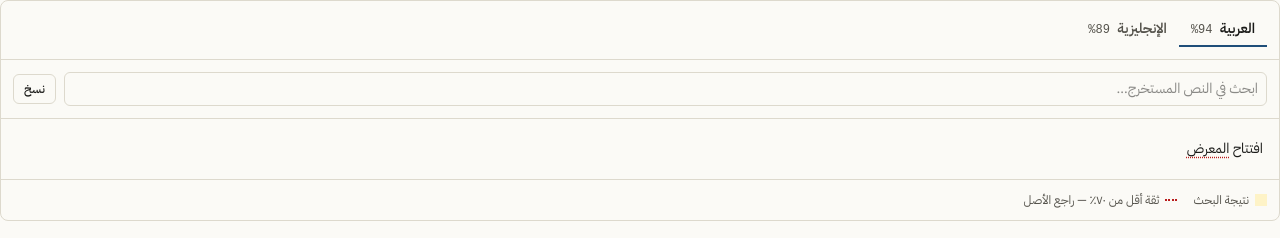
OcrTextPanel › switches language and paginates within a language's pages
Click the button with test id "ocr-lang-tab" showing "الإنجليزية 89%" at x=1128, y=30, box [1076,13,1179,47]
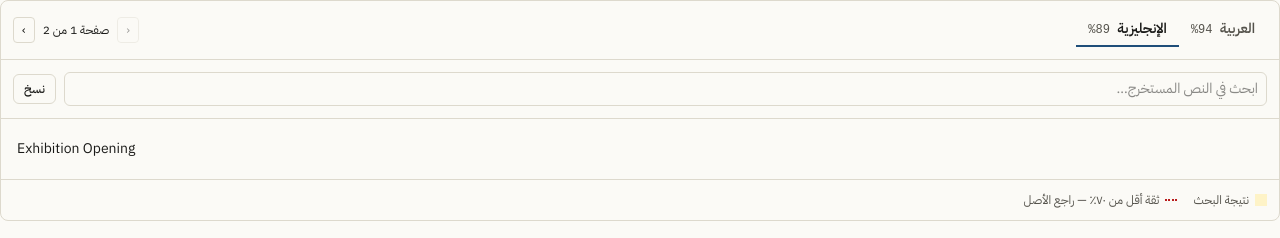
Now the element with test id "ocr-text-body" shows "Exhibition", box [17,138,83,159]
Click the button with test id "ocr-text-next" at x=24, y=30, box [13,17,35,43]
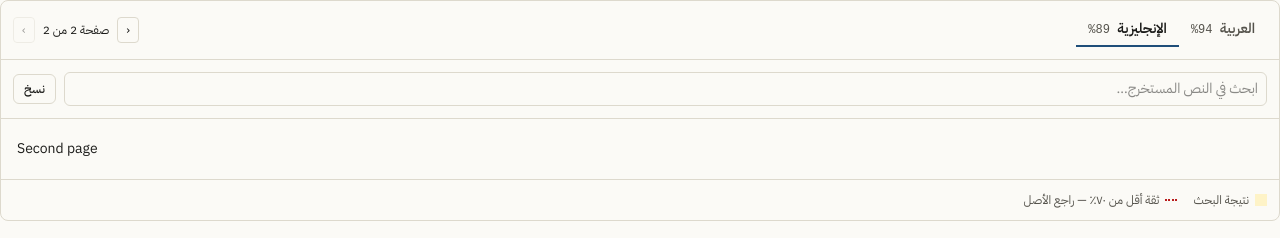
Now the element with test id "ocr-text-body" reads "Second page", box [17,138,98,159]
